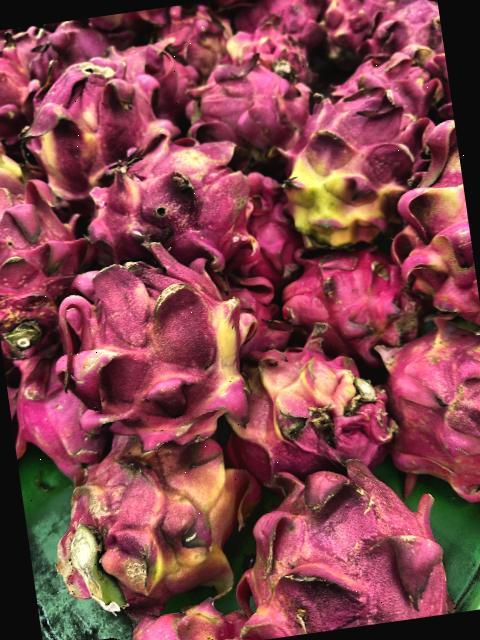buah-naga-belum-matang: (56, 240, 261, 446), (56, 417, 262, 613), (79, 120, 261, 285), (272, 64, 426, 246), (226, 330, 404, 483), (19, 51, 165, 194), (393, 109, 480, 334), (229, 20, 327, 96), (316, 0, 403, 57), (0, 120, 36, 201)
buah-naga-matang: (227, 444, 459, 640), (371, 315, 480, 495), (280, 232, 420, 359), (0, 169, 95, 354), (182, 53, 314, 165), (5, 342, 109, 482), (243, 168, 307, 282), (359, 0, 446, 78), (231, 266, 295, 356), (22, 17, 103, 71), (0, 31, 35, 137)
